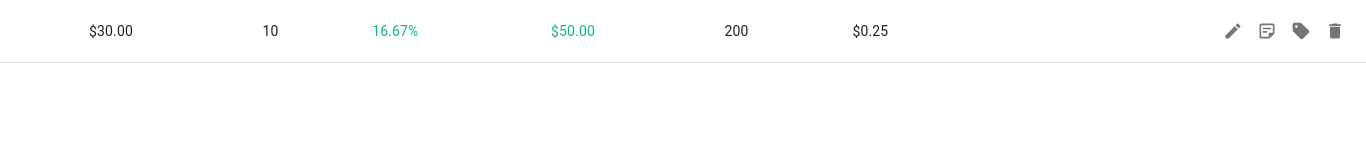
it: LotRow › cancel exits edit mode without submitting
Click the button named "Edit lot". click: (1233, 31)
box: [1218,16,1248,46]
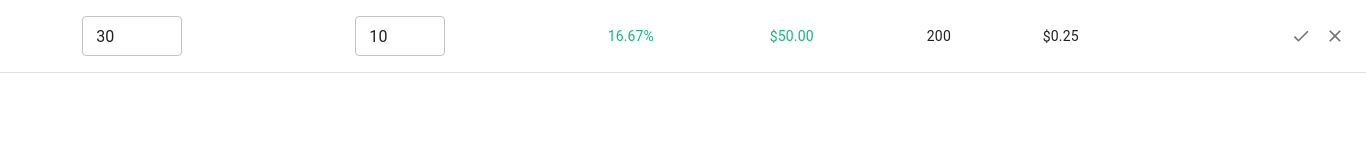
Click the button named "Cancel". click: (1335, 36)
box: [1320,21,1350,51]
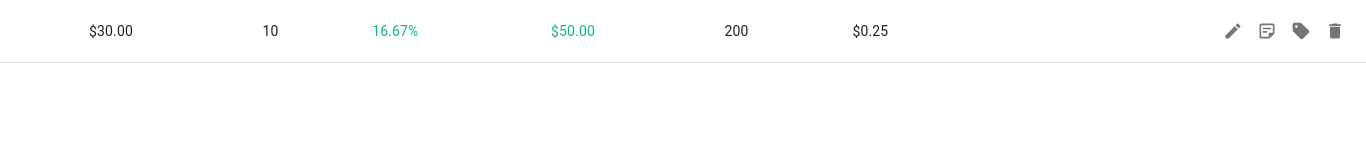
Check: the button named "Edit lot" is shown, box [1218,16,1248,46]
